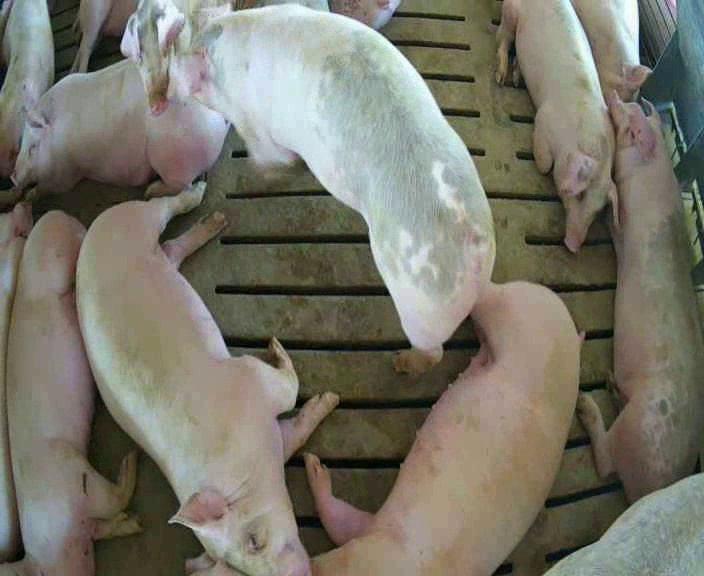pig: (169, 3, 494, 369), (80, 183, 336, 574), (578, 92, 703, 500), (7, 211, 141, 575), (12, 59, 228, 199), (496, 2, 617, 251), (546, 473, 703, 574), (121, 2, 229, 113), (0, 2, 53, 176), (573, 2, 650, 101)
